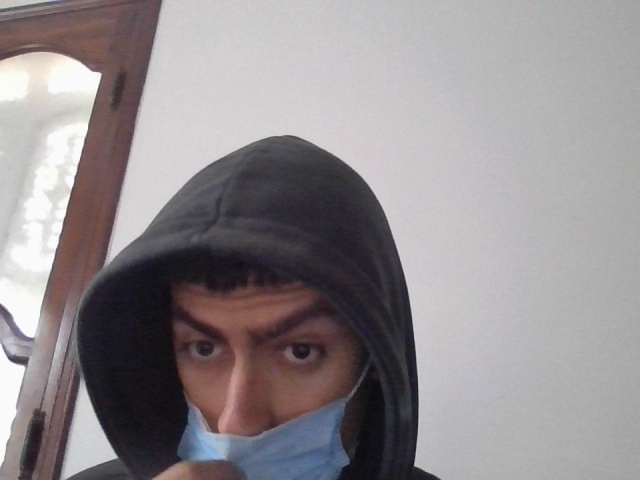mask_weared_incorrect: (152, 233, 376, 480)
